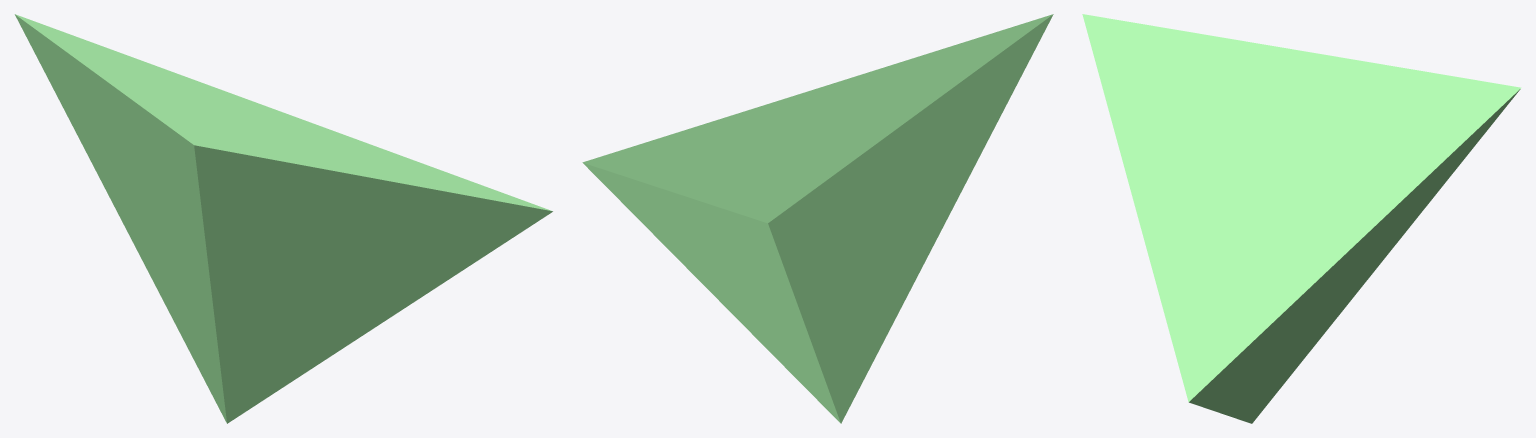
The model's file is linkhou_LR4_R560_link5_respondable_coll_2.dae.
3 views of the same model, side by side, from view 1: azimuth 30°, elevation 25°; view 2: azimuth 150°, elevation 25°; view 3: azimuth 270°, elevation 25° (orthographic). The views are drawn at different scales.
Visible parts, largest first — view 1: Node_00000209DB3AB9C0; view 2: Node_00000209DB3AB9C0; view 3: Node_00000209DB3AB9C0.
Boxes of the visible parts, left/top/right/bottom form: Node_00000209DB3AB9C0: left=14, top=14, right=552, bottom=423; Node_00000209DB3AB9C0: left=582, top=14, right=1053, bottom=423; Node_00000209DB3AB9C0: left=1082, top=14, right=1521, bottom=423.
Bounding box in the file's own units: 0.0059 × 0.00508 × 0.00573.
